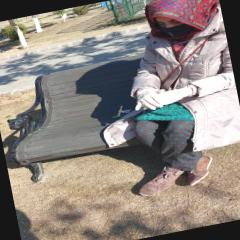gloved: (149, 87, 191, 108), (136, 84, 165, 110)
